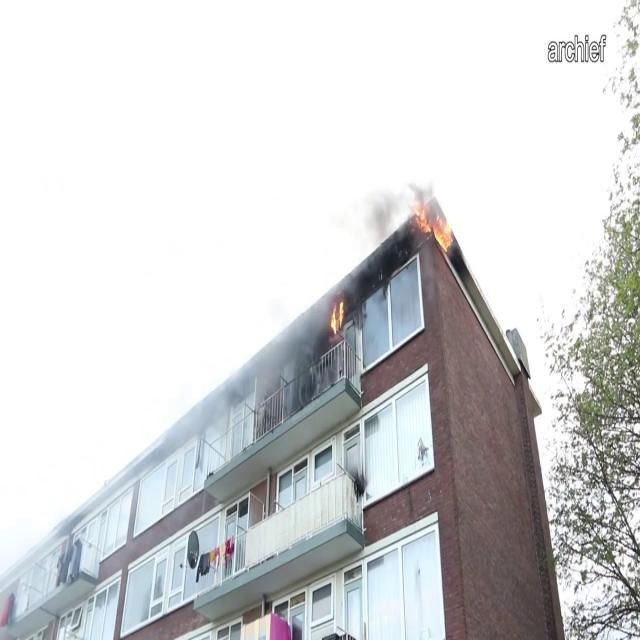Fire: (416, 206, 452, 254), (328, 298, 346, 341)
Smoke: (246, 290, 331, 386), (362, 168, 423, 236)
